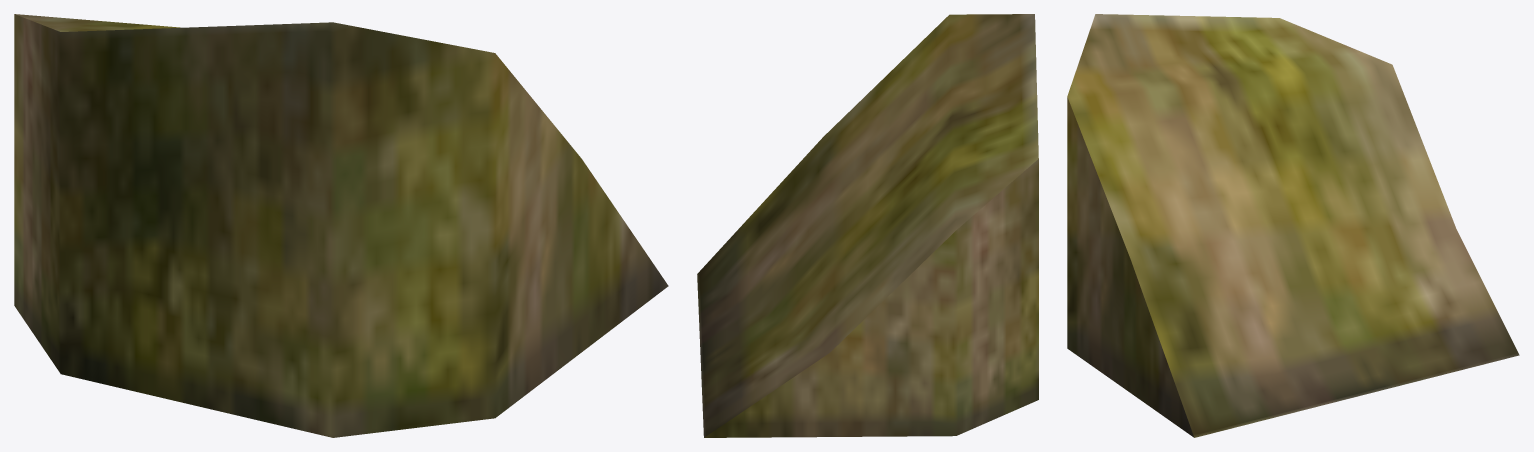
The model's file is OVERHILL_A_01_OBJECT215.fbx.
3 renders of one model, left to right at view 1: azimuth 30°, elevation 25°; view 2: azimuth 150°, elevation 25°; view 3: azimuth 270°, elevation 25°, orthographic. The views are drawn at different scales.
Parts seen in each view (by area): view 1: OVERHILL_A_01_OBJECT215; view 2: OVERHILL_A_01_OBJECT215; view 3: OVERHILL_A_01_OBJECT215.
Boxes of the visible parts, bbox=[...] form: OVERHILL_A_01_OBJECT215: bbox=[14, 14, 668, 437]; OVERHILL_A_01_OBJECT215: bbox=[697, 14, 1038, 437]; OVERHILL_A_01_OBJECT215: bbox=[1067, 14, 1519, 437].
Bounding box in the file's own units: 10158 × 7387 × 10560.
Materials: 1 (1 with a texture image).
